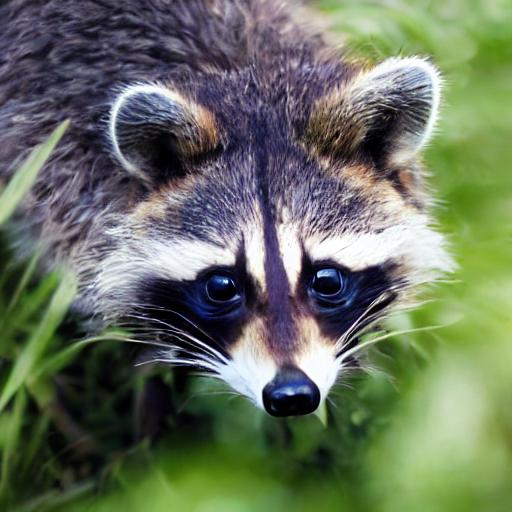raccoon: (0, 0, 472, 438)
